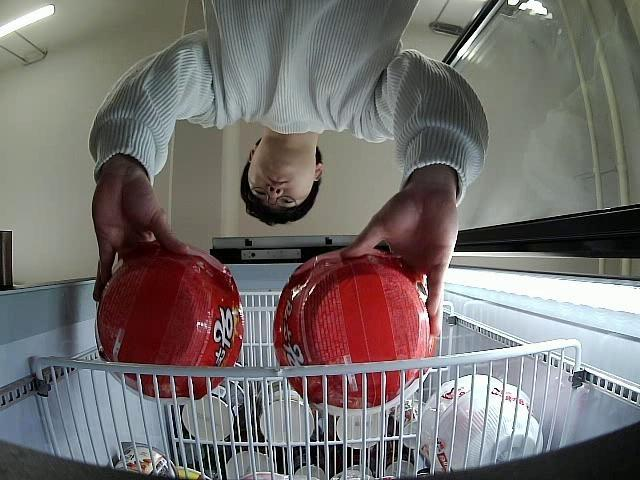10_wangTtukkeong: (274, 248, 437, 414), (96, 246, 244, 402)
